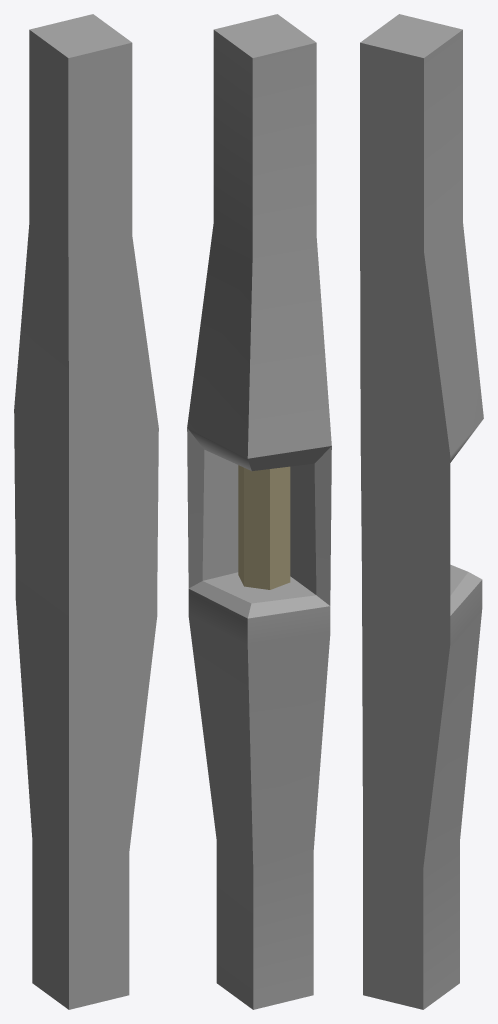
The model's file is CornerLight.fbx.
The picture shows the model from 3 angles, left to right: view 1: azimuth 30°, elevation 25°; view 2: azimuth 210°, elevation 25°; view 3: azimuth 330°, elevation 25°; orthographic projection.
Visible parts, largest first — view 1: pCube2; view 2: pCube2; view 3: pCube2.
Part boxes in pixels (<box>): pCube2: <box>14,14,158,1009</box>; pCube2: <box>187,14,331,1009</box>; pCube2: <box>360,14,483,1009</box>.
Size of the model in its own units: 0.6329 by 6.38 by 0.6671.
